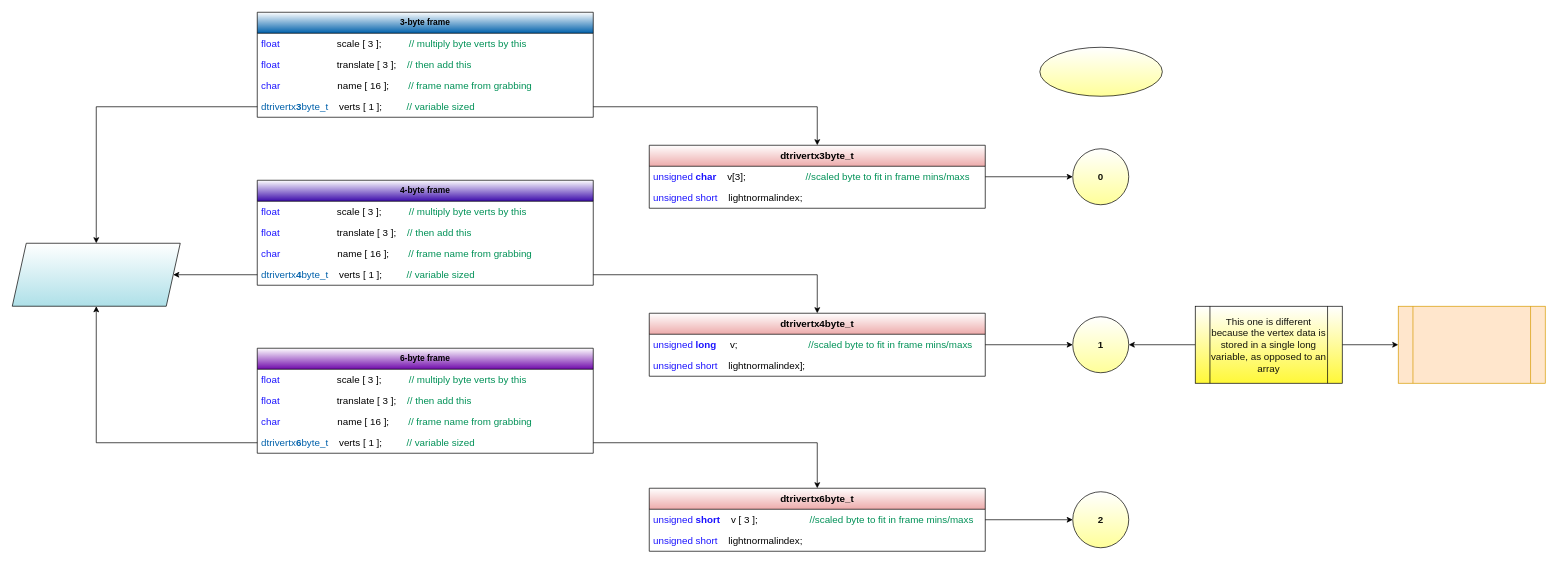
The diagram is 1558 pixels wide and 564 high, and some of its shapes have lost their labels. Here are the shapes that lost their labels. From the top down, the centre of each, then its label:
point (1100, 71): Vertex Resolution (MD2 Header)
point (96, 274): These are structs, and the only difference between the 3
point (1471, 344): This long is bit-shifted by 3 different values to arrive at the 3-point vector
